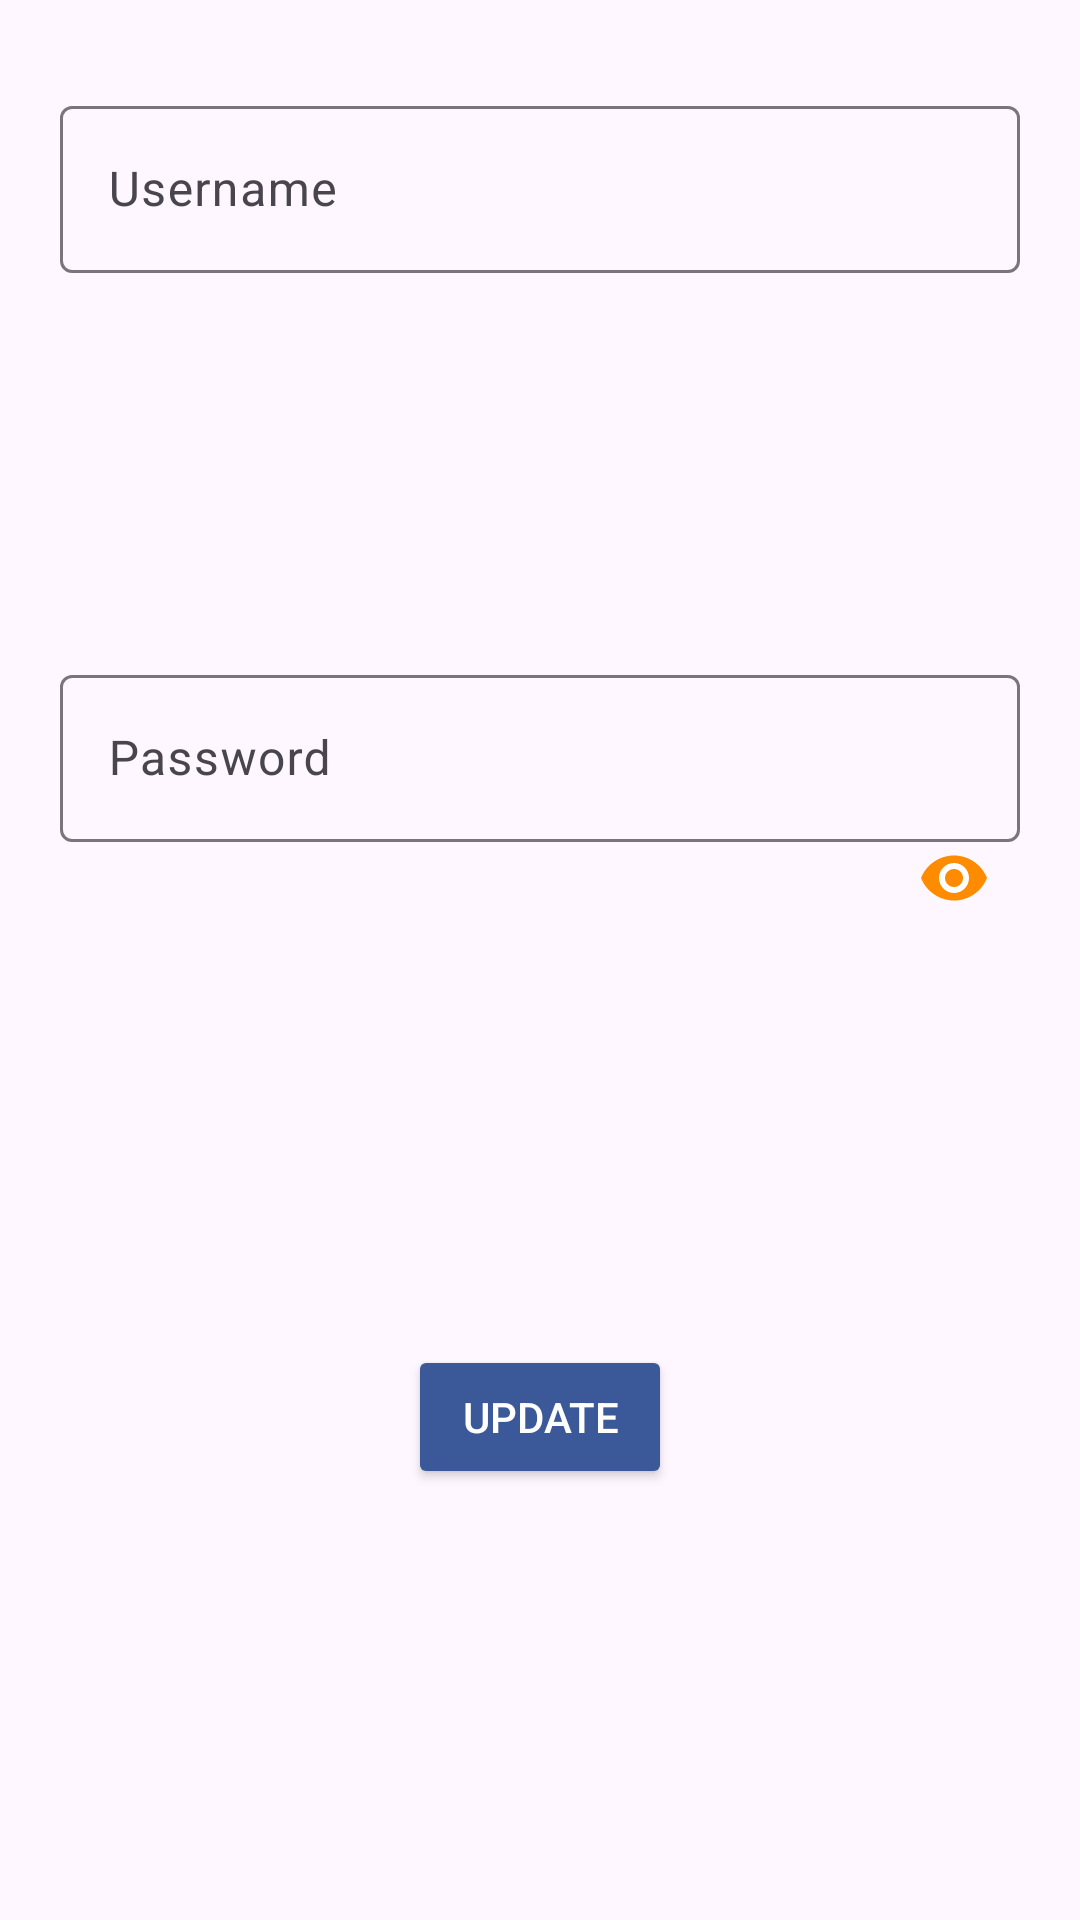

Screen size 1080 × 1920. Icon name, then its box in pixels as {"left": x1, "top": y1, "right": x2, "bottom": y2}:
eye: {"left": 921, "top": 855, "right": 987, "bottom": 901}
